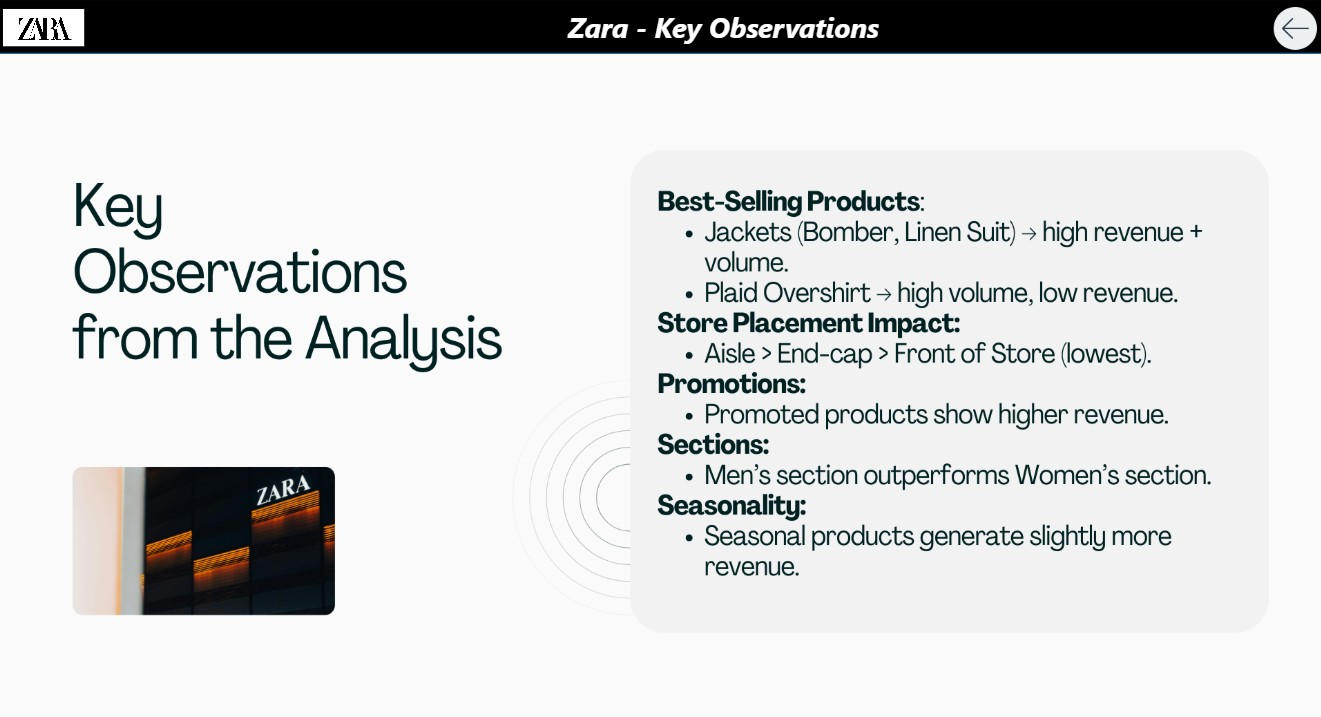

What the dashboard file says about the page in this screenshot:
{"tool":"powerbi","page":{"name":"Key Observations ","canvas":[1280,720],"ordinal":3},"visuals":[{"type":"shape","box":[0,0,1400,52.9],"z":0},{"type":"image","box":[0,4.3,88.6,45.7],"z":1},{"type":"image","box":[1225,0,55,56.7],"z":2}]}

Visuals, with their boxes on the page's 1280x720 design canvas (x1, y1, x2, y2). These are canvas units, not pixel positions in the 1321x717 screenshot, which may show the page scaled, cropped or inside an application window:
shape: [0,0,1400,53]
image: [0,4,89,50]
image: [1225,0,1280,57]
